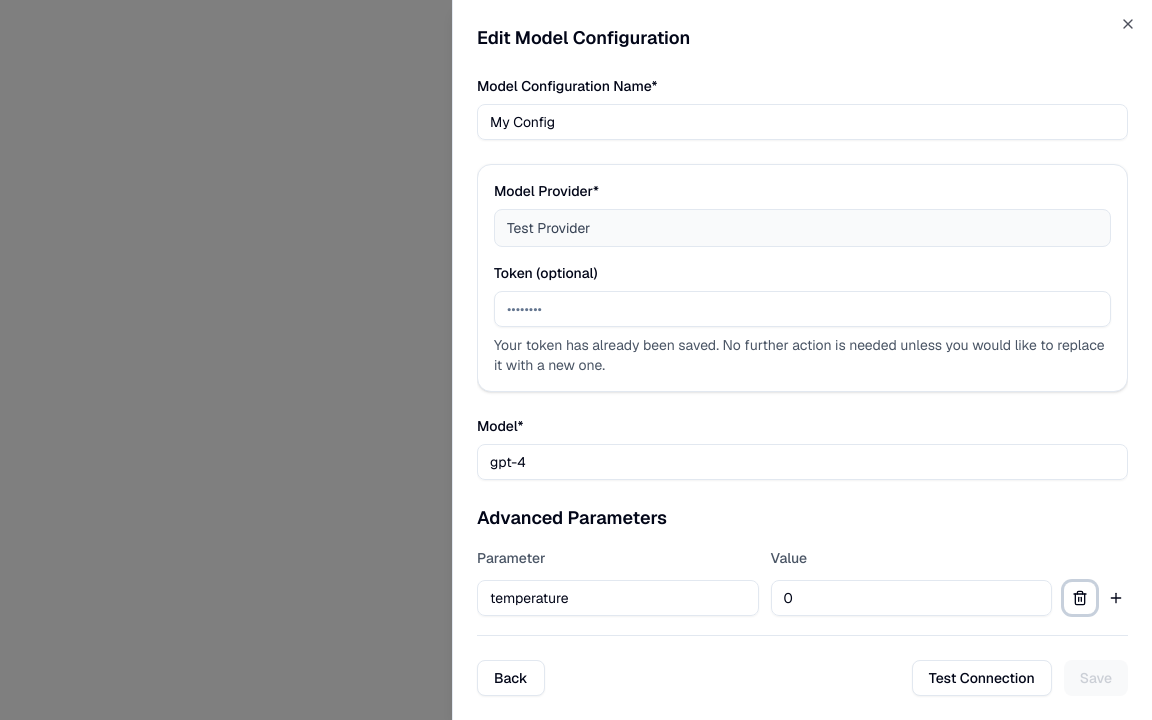
Test: EditModelSheet › disables save after token changes following a successful test
The width and height of the screenshot is (1152, 720).
Click the button "Test Connection" at point(982, 678), box x1=912 y1=660 x2=1052 y2=696
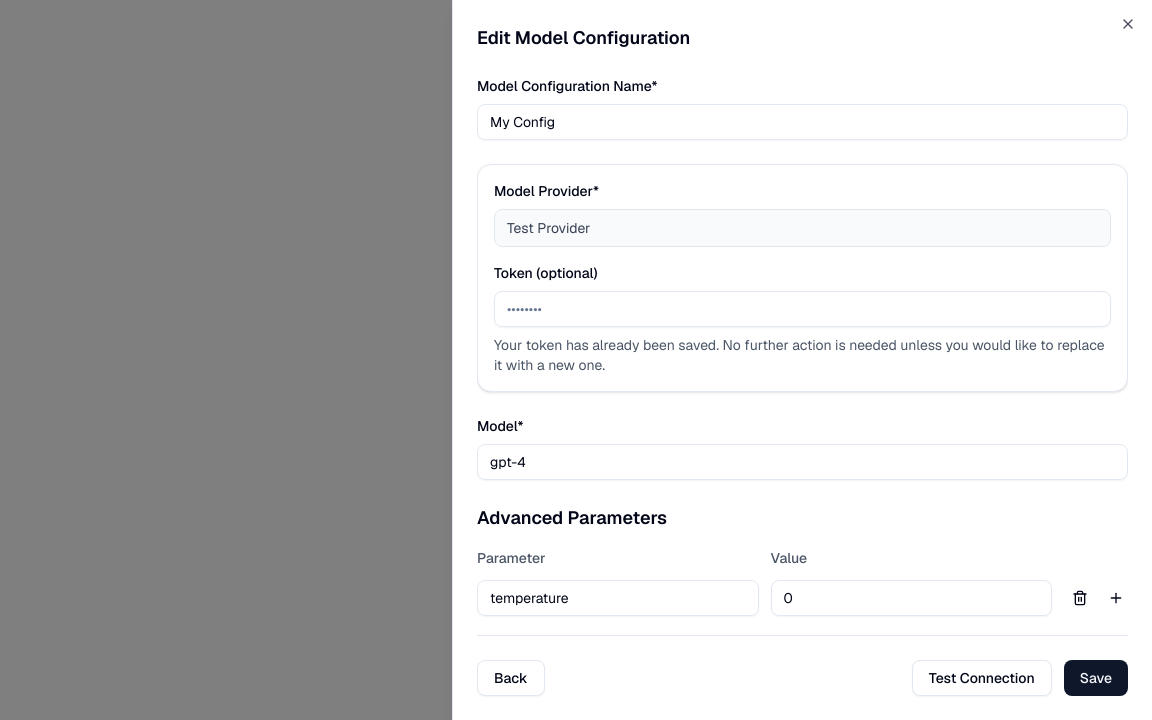
Now the button "Save" is enabled, box x1=1064 y1=660 x2=1128 y2=696
Type "sk-new-token" into the password field labelled "Token (optional)" at point(802, 309), box x1=494 y1=291 x2=1111 y2=327
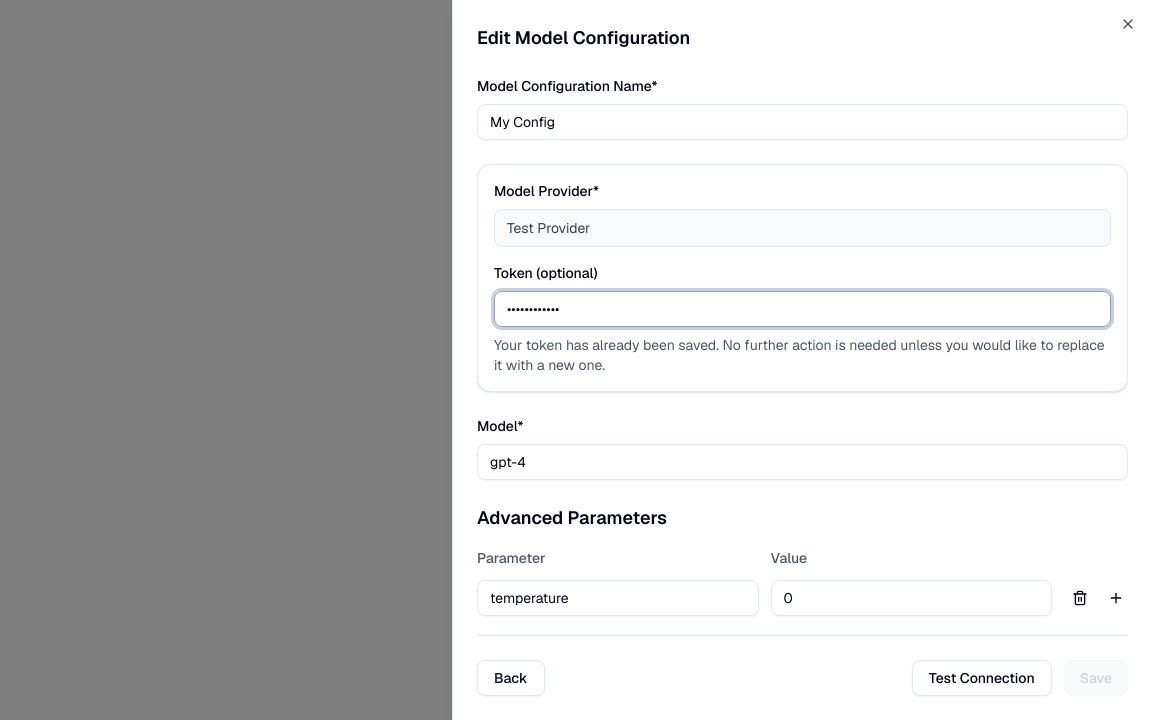
Now the button "Save" is disabled, box x1=1064 y1=660 x2=1128 y2=696
Click the button "Test Connection" at point(982, 678), box x1=912 y1=660 x2=1052 y2=696
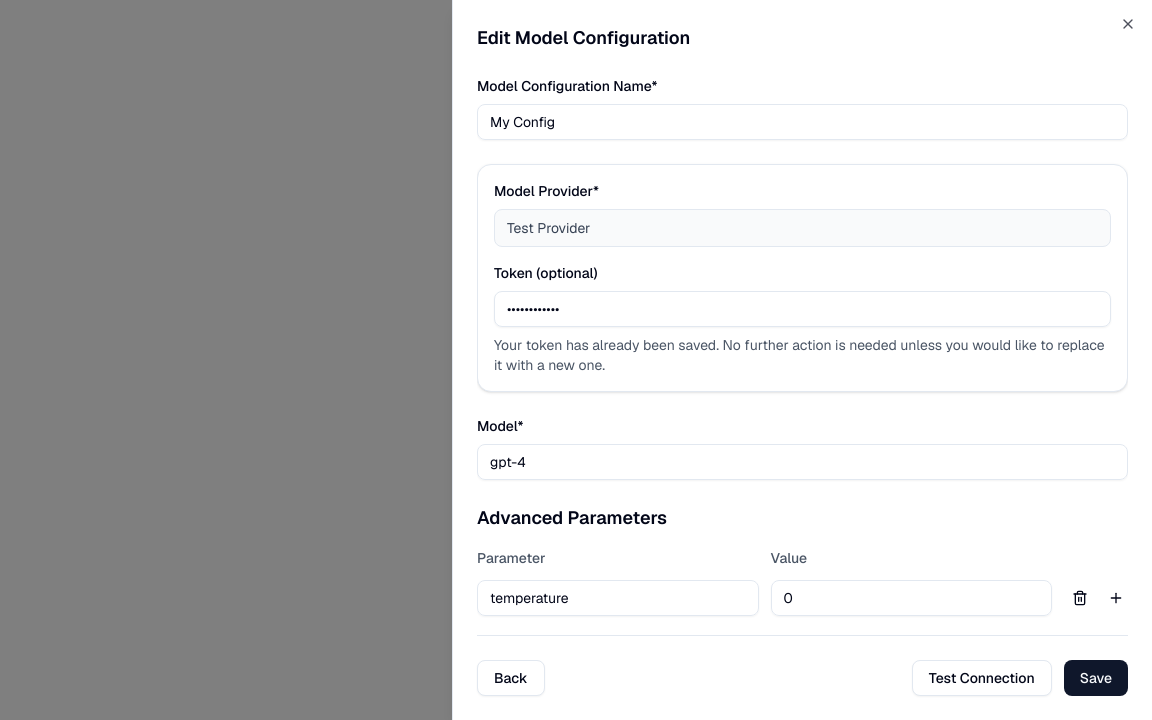
Now the button "Save" is enabled, box x1=1064 y1=660 x2=1128 y2=696
